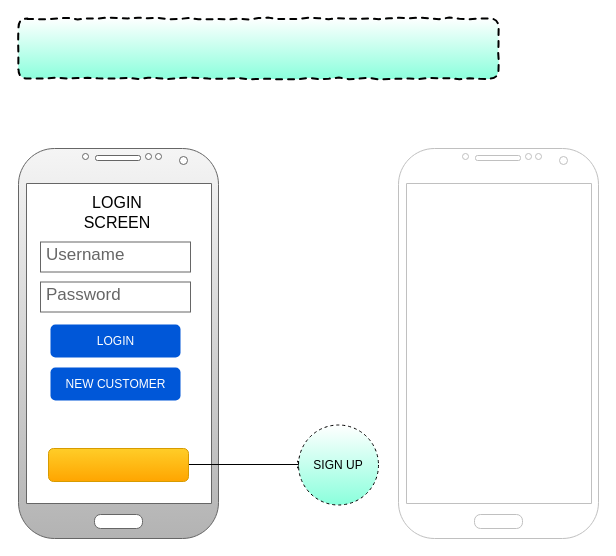
This 616x556 diagram has some shape labels left out. Here are the shapes that lost their labels. From the top down, the centre of each, then its label:
At pixel 258 48: "STORY 1 - FIRST TIME APP OPEN".
At pixel 118 465: "SIGN UP AS CATERER".
